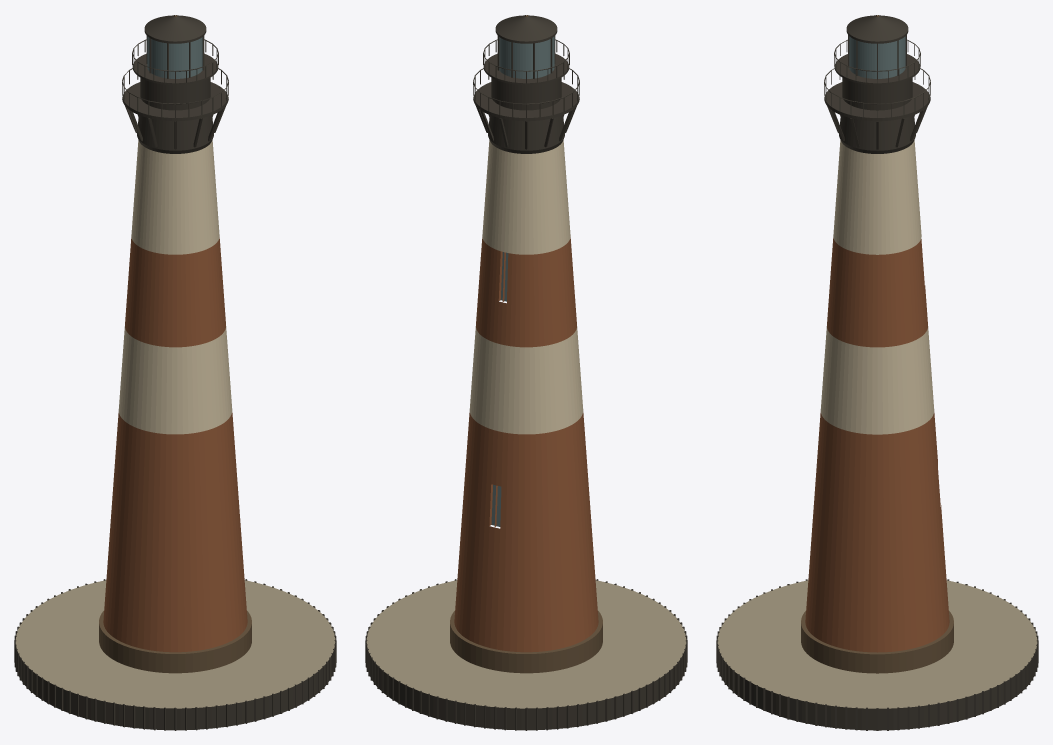
Rendered from morris-island-lighthouse-near.glb.
3 renders of one model, left to right at view 1: azimuth 30°, elevation 25°; view 2: azimuth 150°, elevation 25°; view 3: azimuth 270°, elevation 25°, orthographic.
Visible parts, largest first — view 1: morris-island-lighthouse-0-brick, morris-island-lighthouse-0-stone, morris-island-lighthouse-0-white, morris-island-lighthouse-0-iron, morris-island-lighthouse-0-base, morris-island-lighthouse-0-glass; view 2: morris-island-lighthouse-0-brick, morris-island-lighthouse-0-stone, morris-island-lighthouse-0-white, morris-island-lighthouse-0-iron, morris-island-lighthouse-0-base, morris-island-lighthouse-0-glass; view 3: morris-island-lighthouse-0-brick, morris-island-lighthouse-0-stone, morris-island-lighthouse-0-white, morris-island-lighthouse-0-iron, morris-island-lighthouse-0-base, morris-island-lighthouse-0-glass.
Part boxes in pixels (box(x1,y1,x2,y2)): morris-island-lighthouse-0-brick: box(103, 237, 247, 652); morris-island-lighthouse-0-stone: box(15, 580, 335, 708); morris-island-lighthouse-0-white: box(118, 140, 232, 434); morris-island-lighthouse-0-iron: box(14, 15, 336, 730); morris-island-lighthouse-0-base: box(99, 15, 251, 673); morris-island-lighthouse-0-glass: box(147, 36, 202, 78); morris-island-lighthouse-0-brick: box(454, 237, 598, 652); morris-island-lighthouse-0-stone: box(366, 580, 686, 708); morris-island-lighthouse-0-white: box(469, 140, 583, 434); morris-island-lighthouse-0-iron: box(365, 15, 687, 730); morris-island-lighthouse-0-base: box(450, 15, 602, 673); morris-island-lighthouse-0-glass: box(491, 36, 554, 526); morris-island-lighthouse-0-brick: box(805, 237, 949, 652); morris-island-lighthouse-0-stone: box(717, 580, 1037, 708); morris-island-lighthouse-0-white: box(820, 140, 934, 434); morris-island-lighthouse-0-iron: box(716, 15, 1038, 730); morris-island-lighthouse-0-base: box(801, 15, 953, 673); morris-island-lighthouse-0-glass: box(849, 36, 905, 78).
Bounding box in the file's own units: 22.08 × 49.07 × 22.12.
